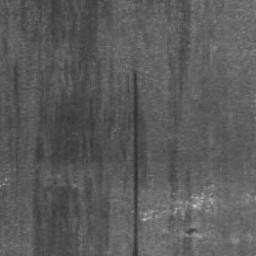Scratches: (132, 71, 139, 256)
